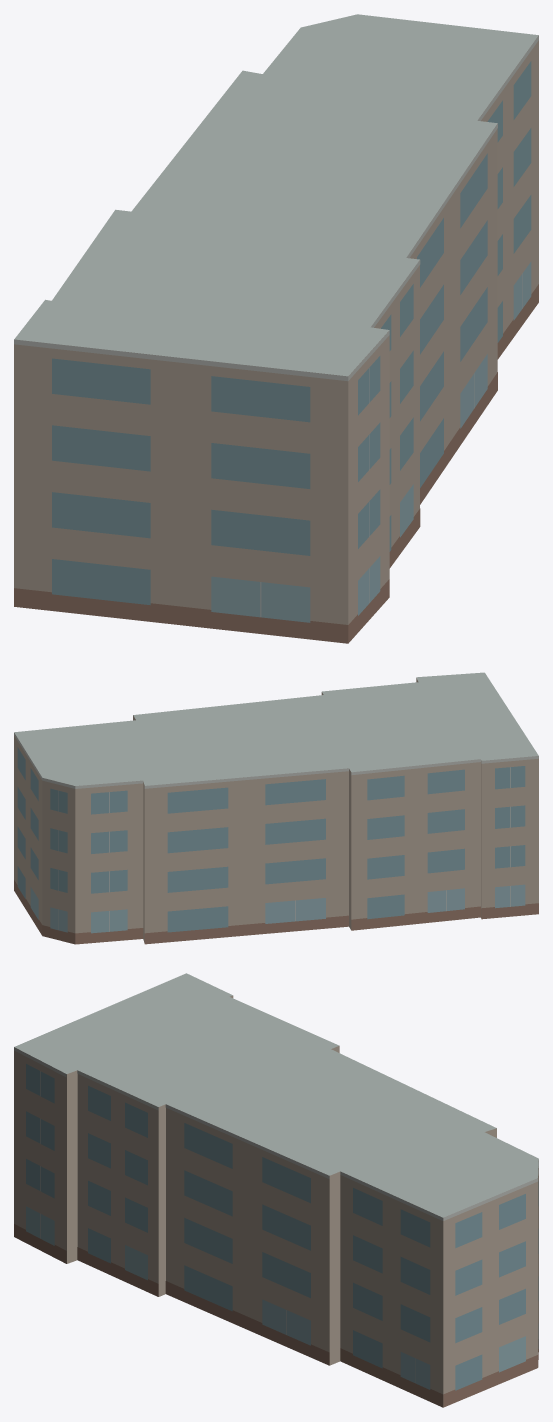
File: survey-upis-32851851.glb
3 views of the same model, one above another, from view 1: azimuth 30°, elevation 25°; view 2: azimuth 150°, elevation 25°; view 3: azimuth 270°, elevation 25° (orthographic). The views are drawn at different scales.
Parts seen in each view (by area): view 1: survey-upis-32851851.tmp; view 2: survey-upis-32851851.tmp; view 3: survey-upis-32851851.tmp.
Part boxes in pixels (bbox=[...]): survey-upis-32851851.tmp: bbox=[14, 14, 538, 643]; survey-upis-32851851.tmp: bbox=[14, 672, 538, 944]; survey-upis-32851851.tmp: bbox=[14, 973, 538, 1407].
Size of the model in its own units: 37.01 by 13.4 by 33.57.
